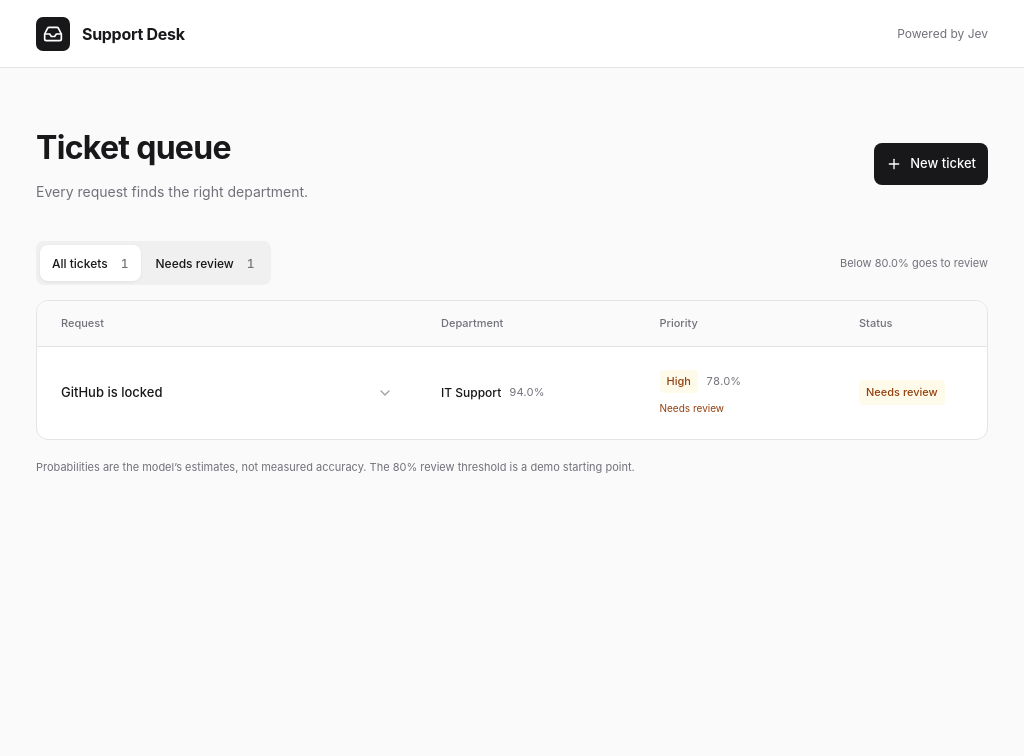
Test: queue shows both category probabilities and flags only uncertain field
Check: the text "IT Support" is shown, box [441,384,501,402]
Check: the text "94.0%" is shown, box [509,384,544,401]
Click the button "GitHub is locked".
click(112, 392)  # box [61,378,393,407]
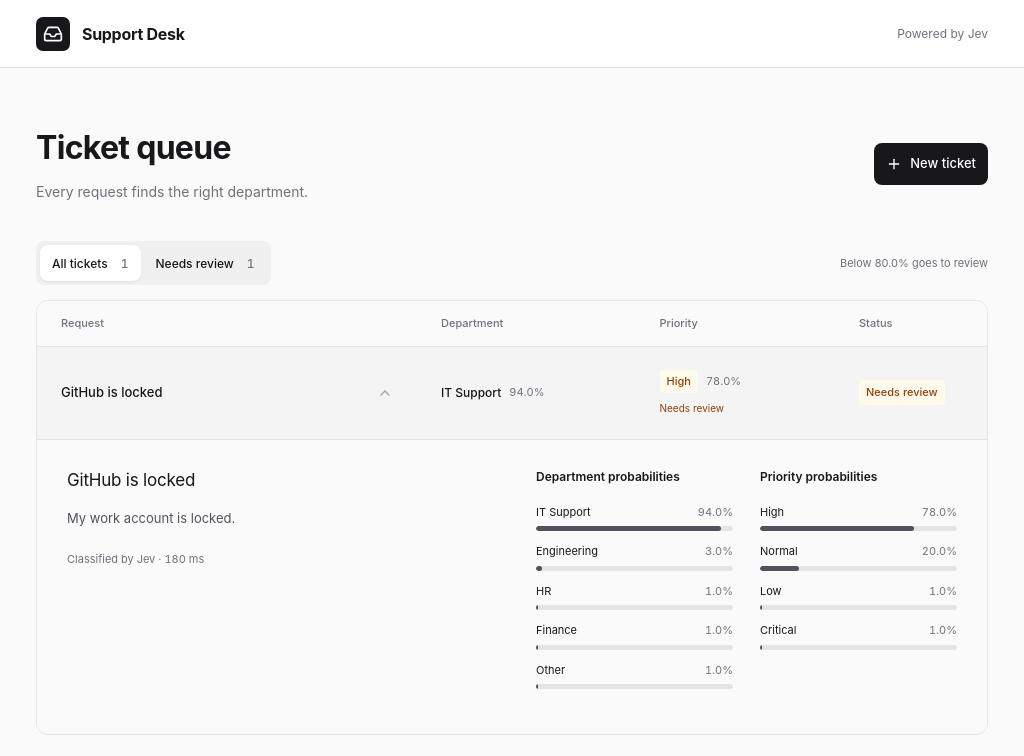
Check: the heading "Department probabilities" is shown, box [536,468,680,484]
Check: the heading "Priority probabilities" is shown, box [760,468,877,484]
Check: the text "My work account is locked." is shown, box [67,510,235,526]
